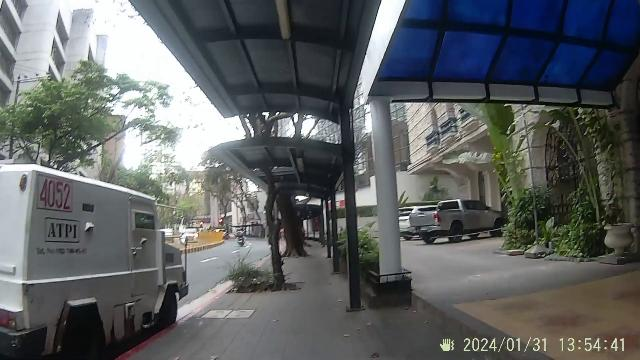car: (3, 152, 193, 360), (399, 200, 505, 246)
tree: (248, 186, 300, 294)
